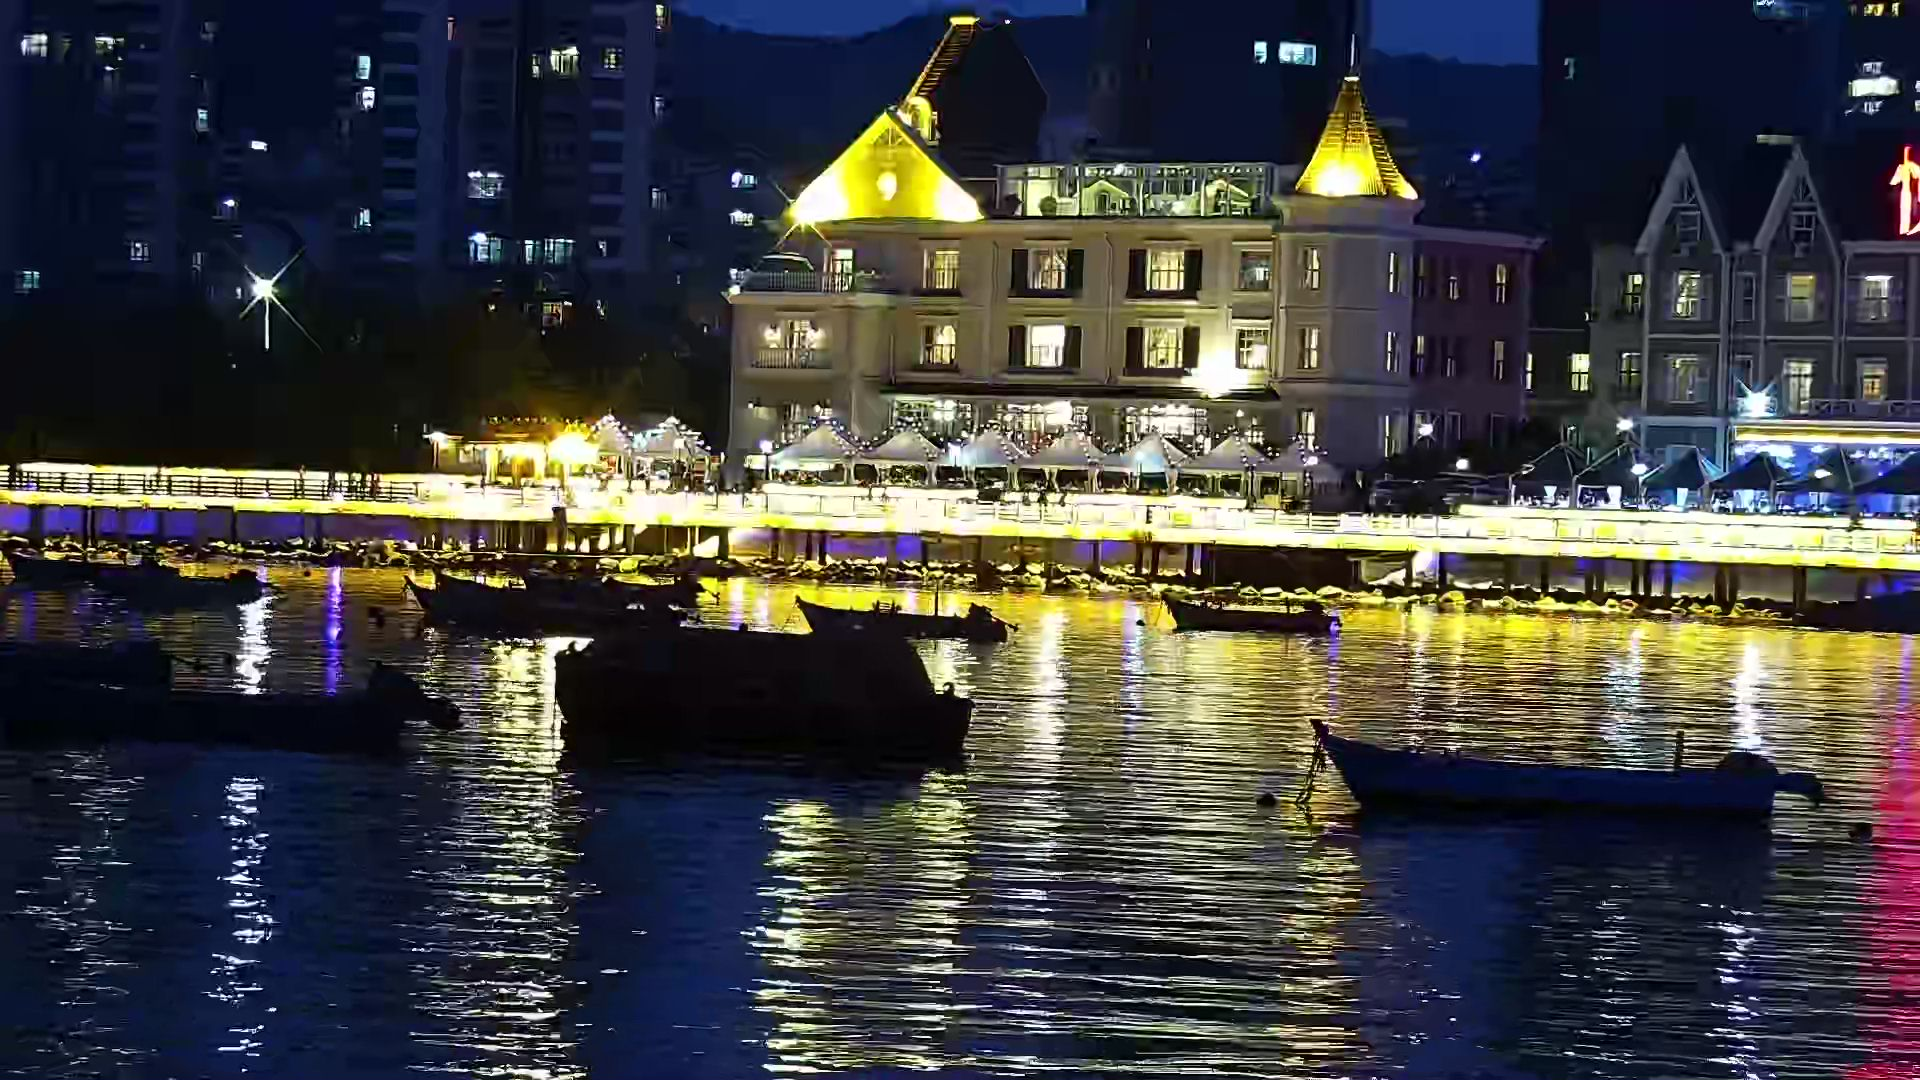ball: (1246, 781, 1284, 823)
boat: (553, 636, 982, 758), (1298, 756, 1803, 844), (102, 678, 452, 775), (411, 560, 690, 640), (3, 547, 258, 620), (795, 597, 1015, 636), (1160, 597, 1344, 636)
